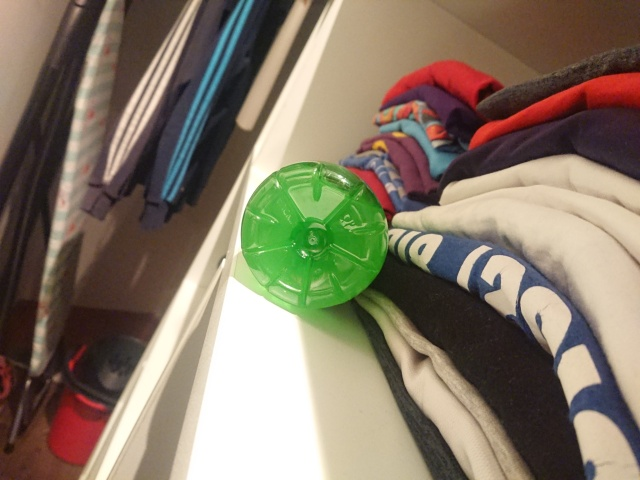Vindi Iso Sport Lemon-Grapefruit 500mL: (235, 157, 393, 314)
